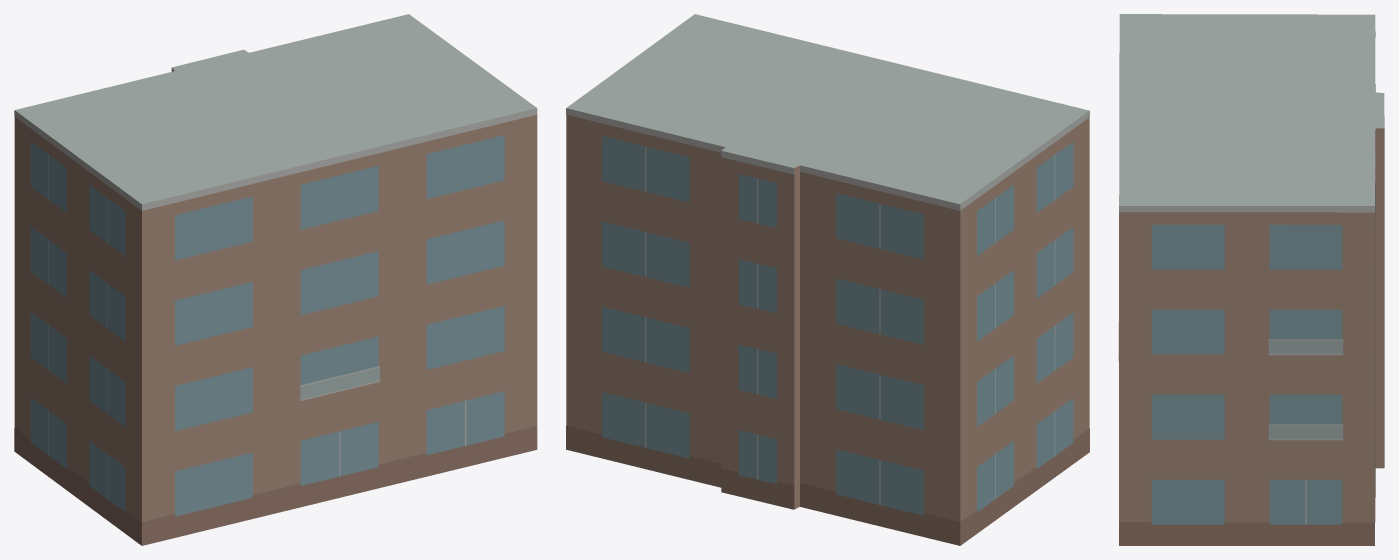
Rendered from survey-upis-32867085.glb.
3 views of the same model, side by side, from view 1: azimuth 30°, elevation 25°; view 2: azimuth 150°, elevation 25°; view 3: azimuth 270°, elevation 25° (orthographic).
Visible parts, largest first — view 1: survey-upis-32867085.tmp; view 2: survey-upis-32867085.tmp; view 3: survey-upis-32867085.tmp.
Part boxes in pixels (bbox=[...]): survey-upis-32867085.tmp: bbox=[14, 14, 537, 545]; survey-upis-32867085.tmp: bbox=[566, 14, 1089, 545]; survey-upis-32867085.tmp: bbox=[1118, 14, 1384, 545].
Bounding box in the file's own units: 15.55 × 12.8 × 9.1.
